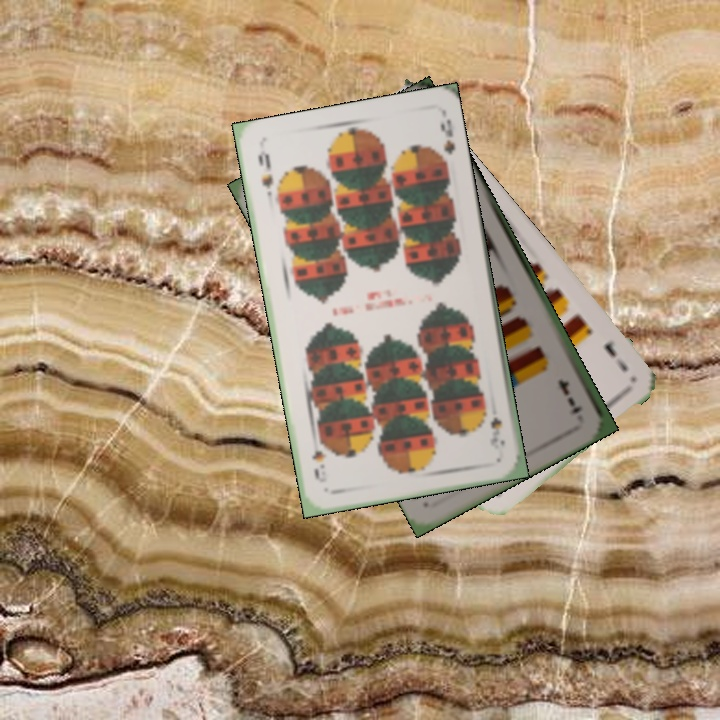E7: (554, 375, 586, 416), (599, 336, 630, 374)
S9: (254, 149, 276, 192), (486, 413, 508, 452)
